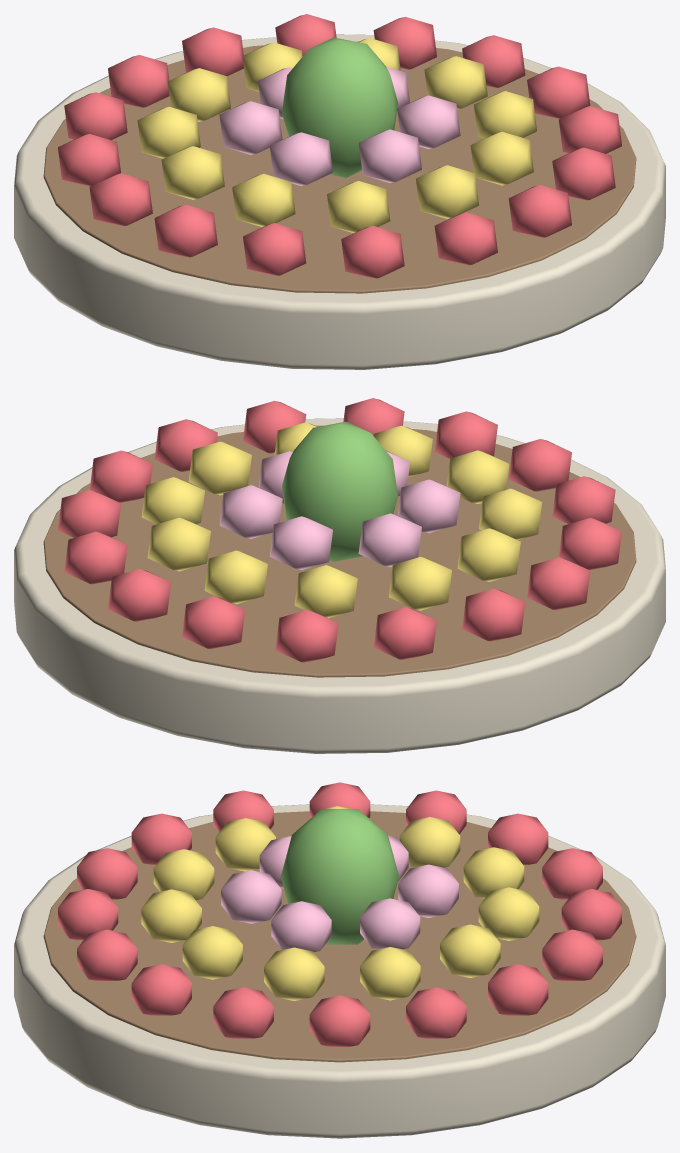
File: flower_bed.fbx
3 renders of one model, top to bottom at view 1: azimuth 30°, elevation 25°; view 2: azimuth 150°, elevation 25°; view 3: azimuth 270°, elevation 25°, orthographic.
Visible parts, largest first — view 1: Visual; view 2: Visual; view 3: Visual.
Part boxes in pixels (x1,y1,x2,y2): Visual: [14, 14, 665, 369]; Visual: [14, 398, 665, 753]; Visual: [14, 782, 665, 1138].
Size of what is drawn, in the model's own units: 440 by 145 by 440.
